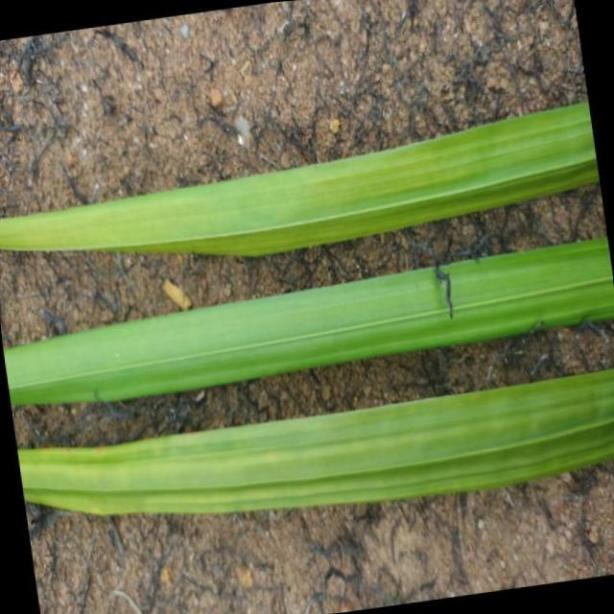nitrogen: (3, 242, 614, 408), (0, 99, 614, 258), (0, 366, 614, 513)
